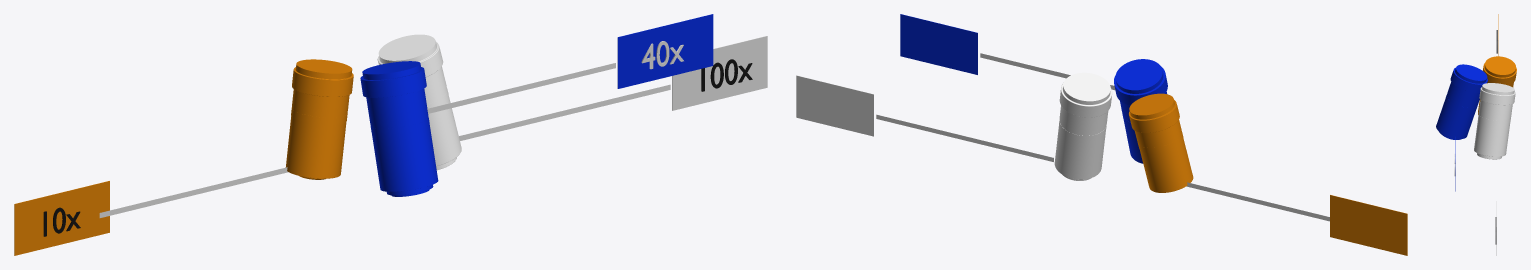
Rendered from mobj.gltf.
The picture shows the model from 3 angles, left to right: view 1: azimuth 30°, elevation 25°; view 2: azimuth 150°, elevation 25°; view 3: azimuth 270°, elevation 25°; orthographic projection. The views are drawn at different scales.
Parts seen in each view (by area): view 1: 40x, 10x, Cube.004, Cube.006, 100x, Cube.016, Cube.017, Cube.007, Cube.005, Text.008, Text.002, Text.003; view 2: 100x, 10x, Cube.016, Cube.006, Cube.004, 40x, Cube.017, Cube.007, Cube.005; view 3: 100x, 40x, 10x.
Boxes of the visible parts, x1,y1,x2,y2 form: 40x: (360,61,438,196); 10x: (285,59,353,179); Cube.004: (617,14,713,88); Cube.006: (14,181,109,255); 100x: (377,34,461,170); Cube.016: (672,36,767,110); Cube.017: (459,84,670,140); Cube.007: (99,167,288,217); Cube.005: (427,63,615,113); Text.008: (701,59,752,91); Text.002: (641,41,683,69); Text.003: (43,207,80,236); 100x: (1054,72,1112,180); 10x: (1128,93,1193,192); Cube.016: (796,75,873,136); Cube.006: (1330,195,1407,255); Cube.004: (900,14,977,74); 40x: (1114,59,1167,163); Cube.017: (876,114,1053,161); Cube.007: (1186,182,1329,221); Cube.005: (980,53,1115,90); 100x: (1474,83,1515,159); 40x: (1436,64,1487,139); 10x: (1478,56,1516,114).
Bounding box in the file's own units: 0.2954 × 0.0531 × 0.0493.
